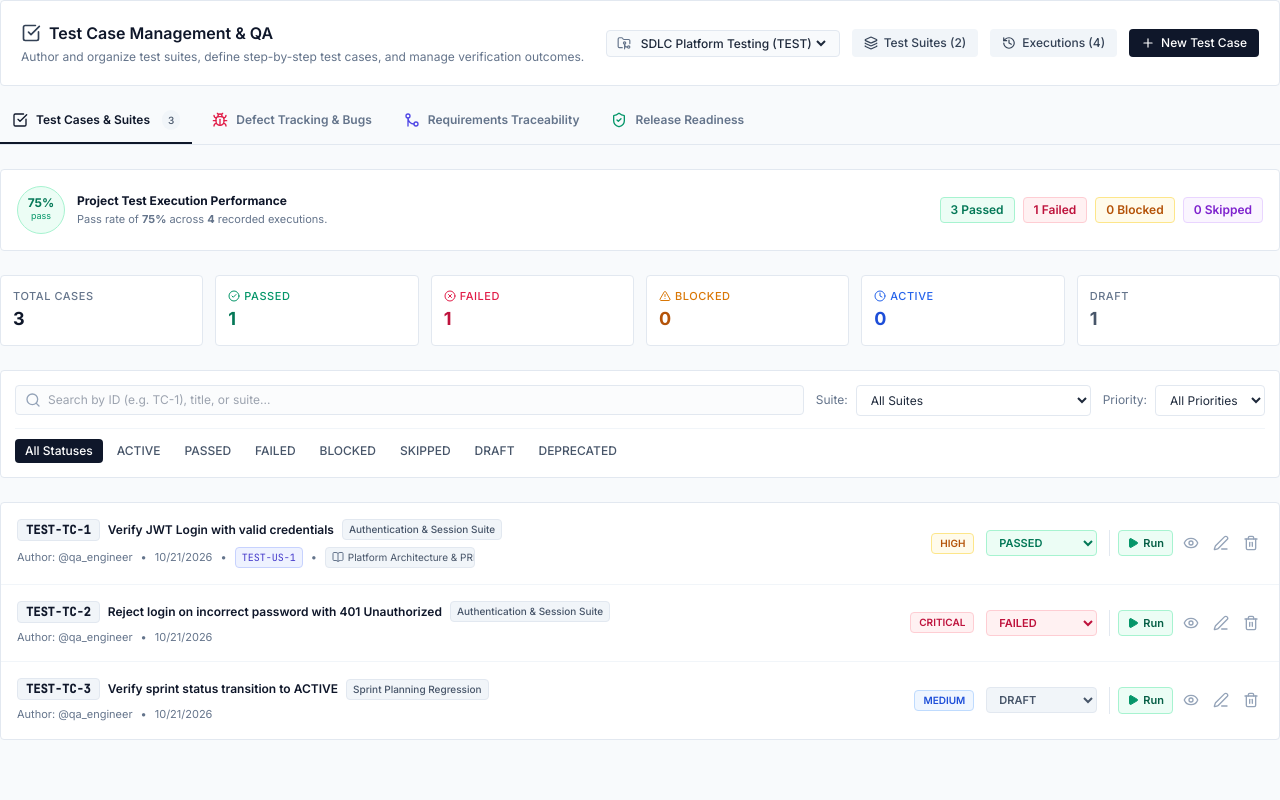
Phase 5: Test Case Management Components › opens View Test Case detail modal and inspects steps and expected results
Expected: the text "TEST-TC-1" is shown, [17,518,100,540]
# Click Eye button
Click the button titled "View Test Case Details" in the row of "HIGH": [1191, 543] box [1179,531,1203,555]
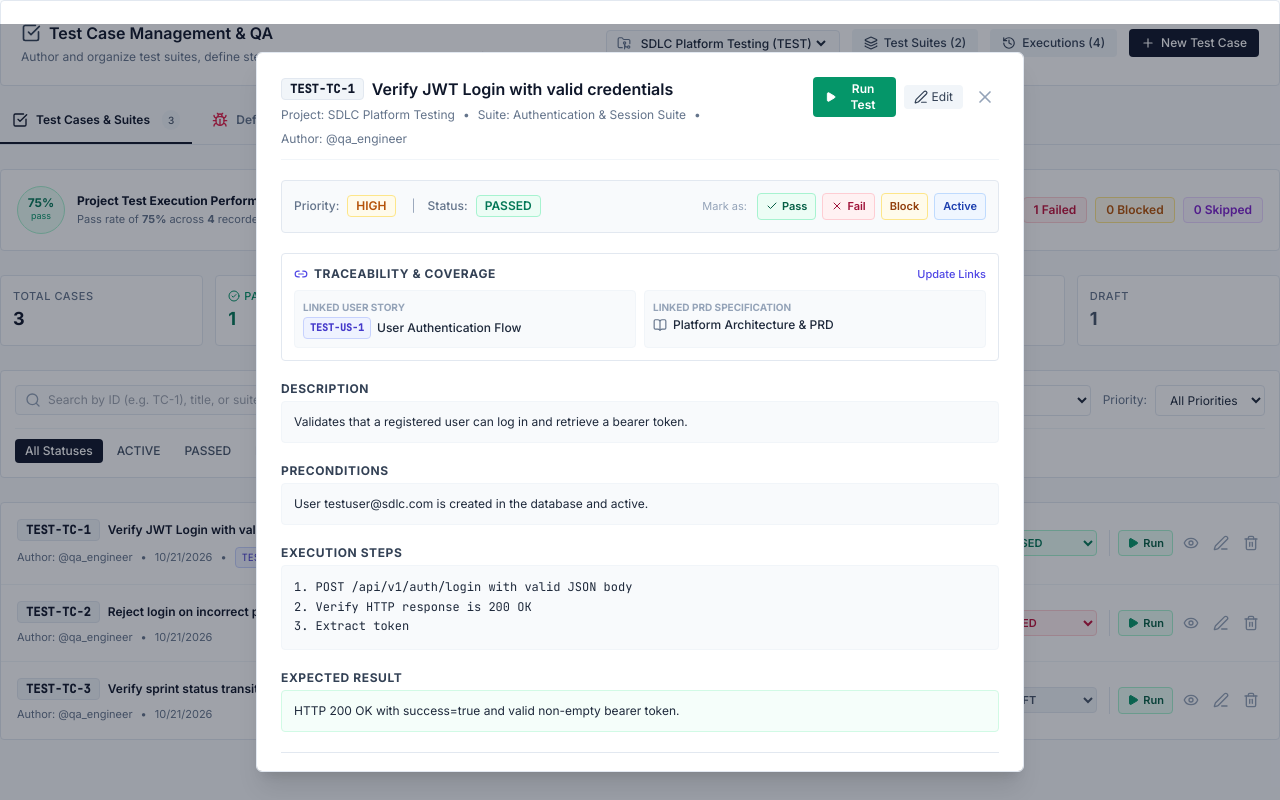
Result: the heading "Execution Steps" is shown at [281,545,402,560]
Result: the text "POST /api/v1/auth/login with valid JSON" is shown at [294,579,632,634]
Result: the text "User testuser@sdlc.com is created" is shown at [294,496,648,511]
